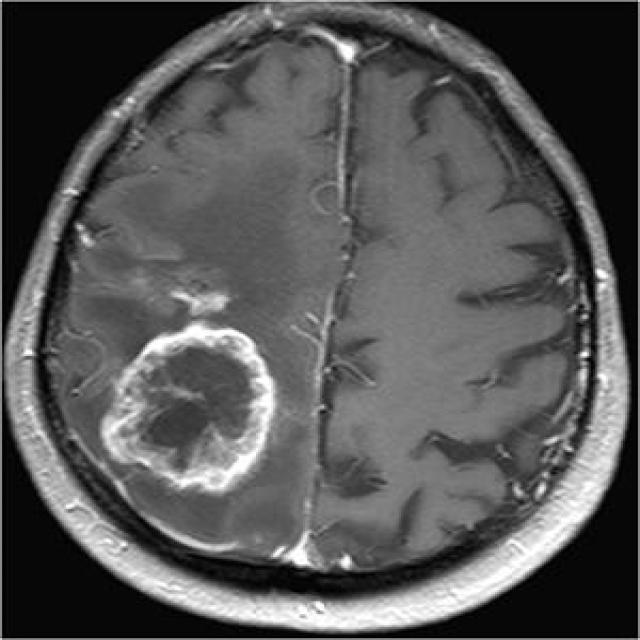Tumor-Cell: (81, 302, 286, 494)
